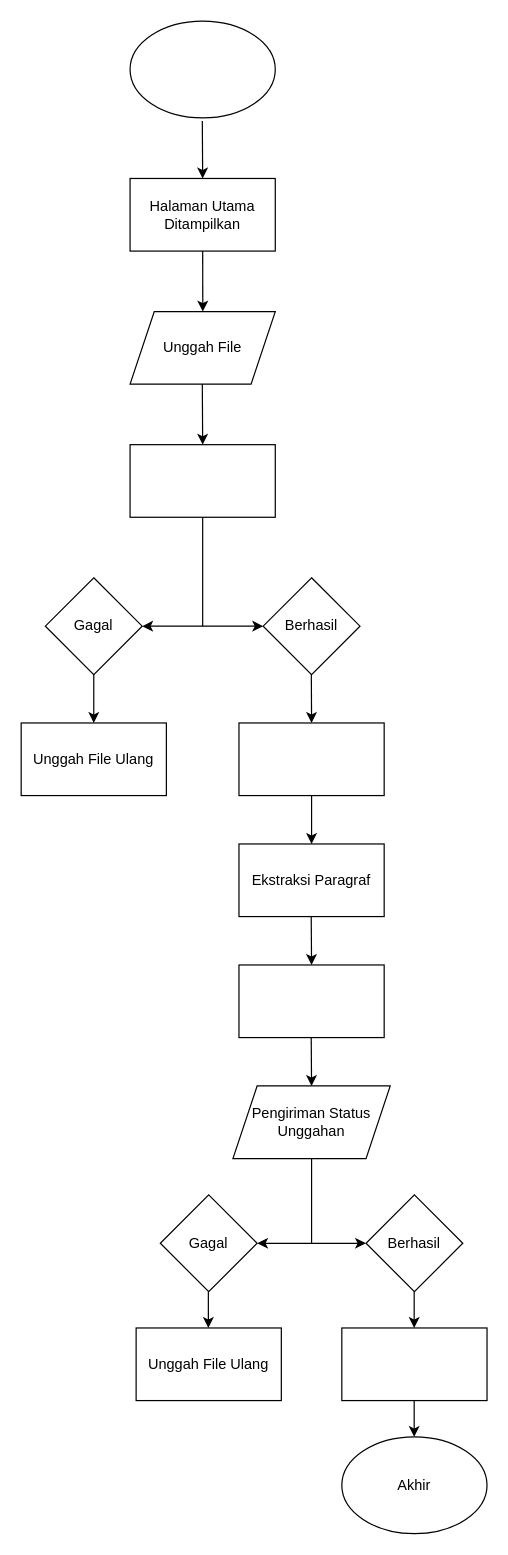
Some shapes in this 508 by 1555 pixel diagram are drawn without their labels. Each missing label, with the box of its shape:
Backend Memproses File: (238, 722, 384, 796)
Mulai: (129, 20, 275, 118)
Pengguna Mengunduh File: (341, 1327, 487, 1401)
Proses dan Format Penulisan: (238, 964, 384, 1038)
Validasi File: (129, 443, 275, 517)
